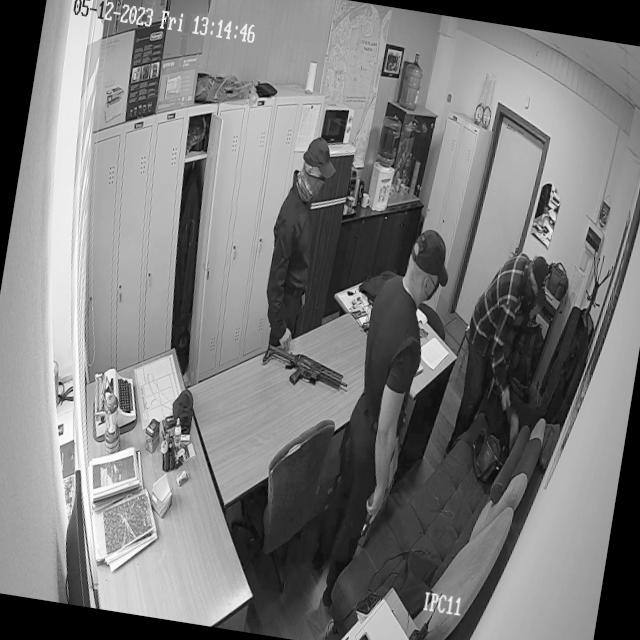gun: (258, 340, 354, 395), (360, 492, 384, 542)
person: (258, 134, 340, 347), (455, 250, 544, 422)
person with a gun: (331, 225, 446, 566)
